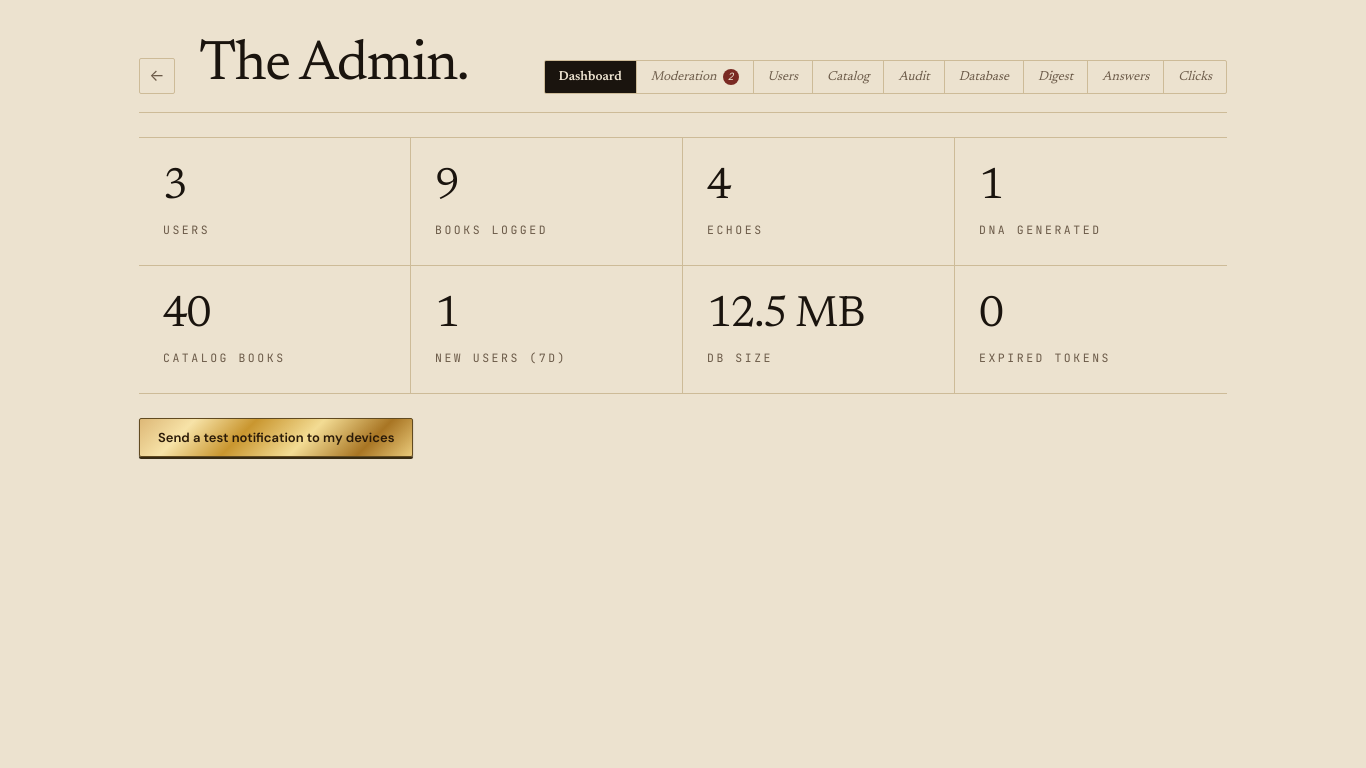
Scenario: the test notification › says plainly when nothing is registered
Click the button "Send a test notification to my devices" at (276, 437), box left=139, top=418, right=414, bottom=457
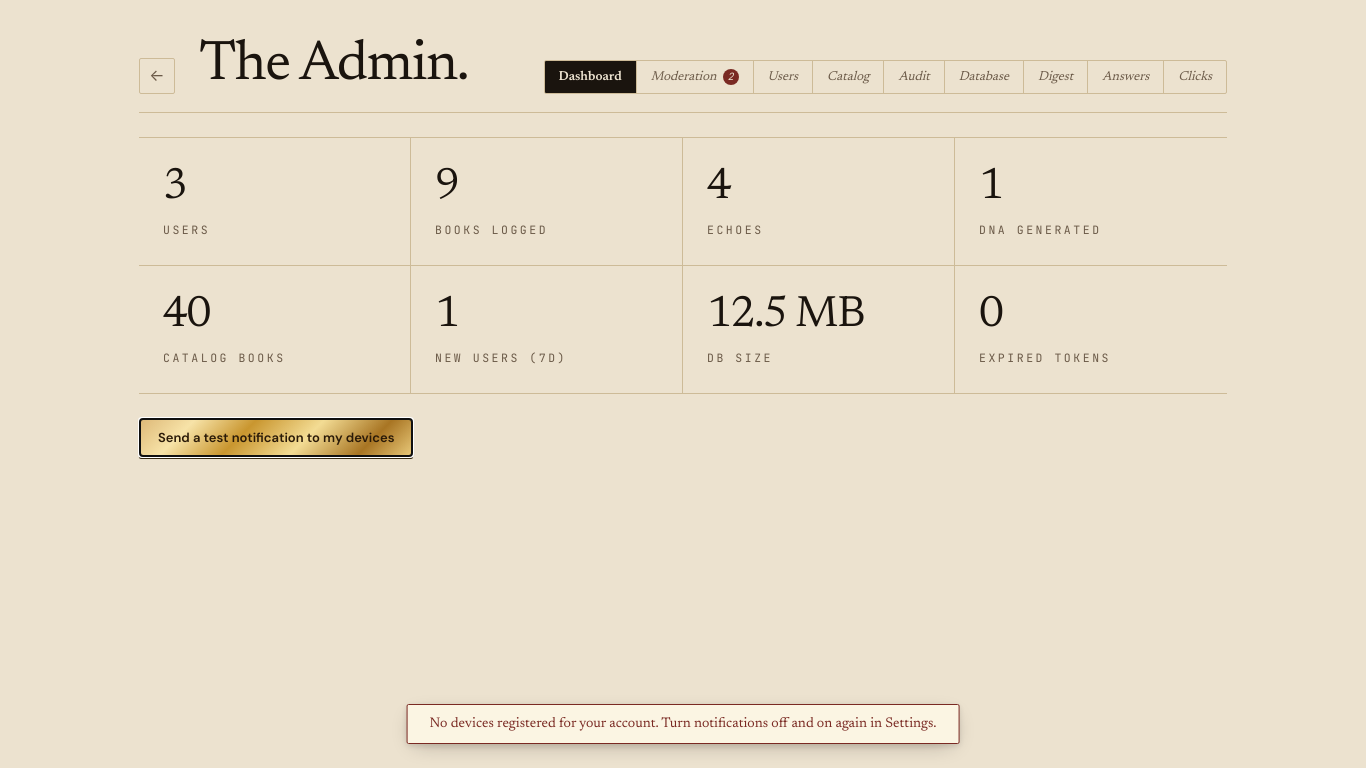
Check: the text "No devices registered" is shown, box left=430, top=717, right=936, bottom=731
